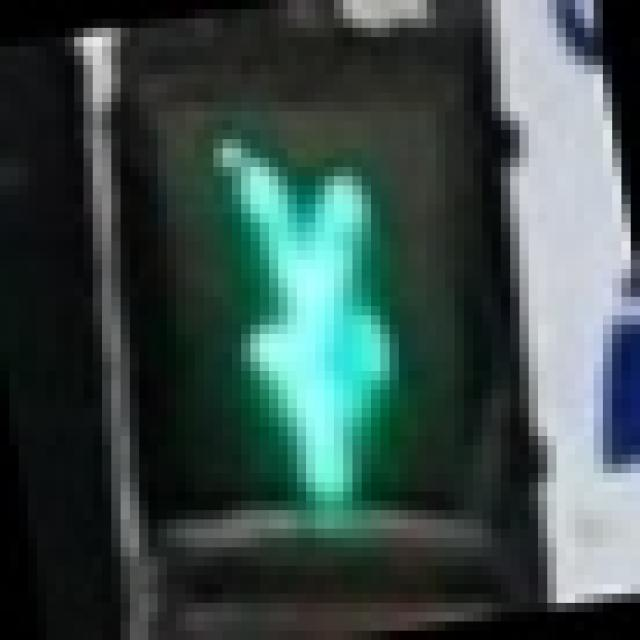green_light: (93, 74, 510, 547)
